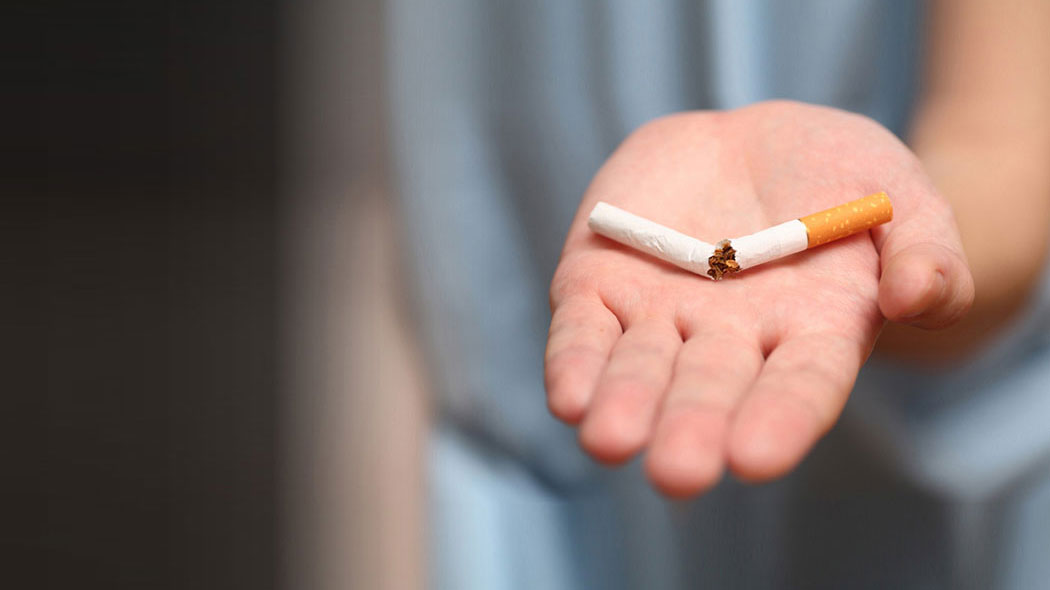cigarette: (719, 194, 924, 272)
